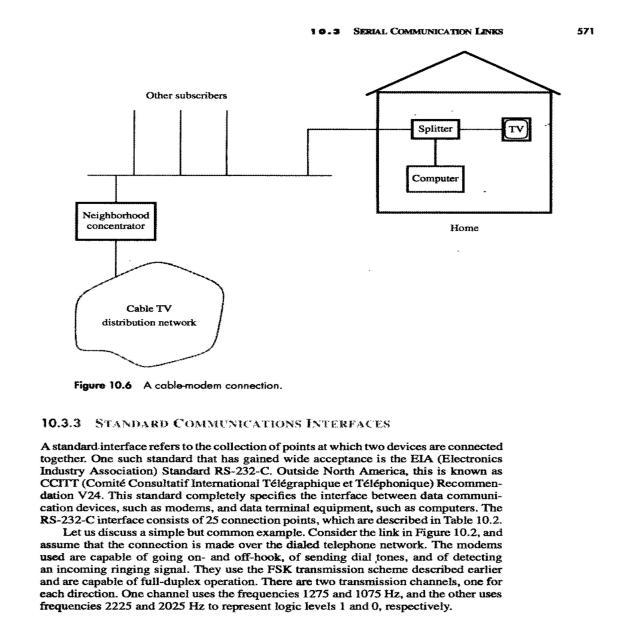diagram: (38, 45, 635, 397)
